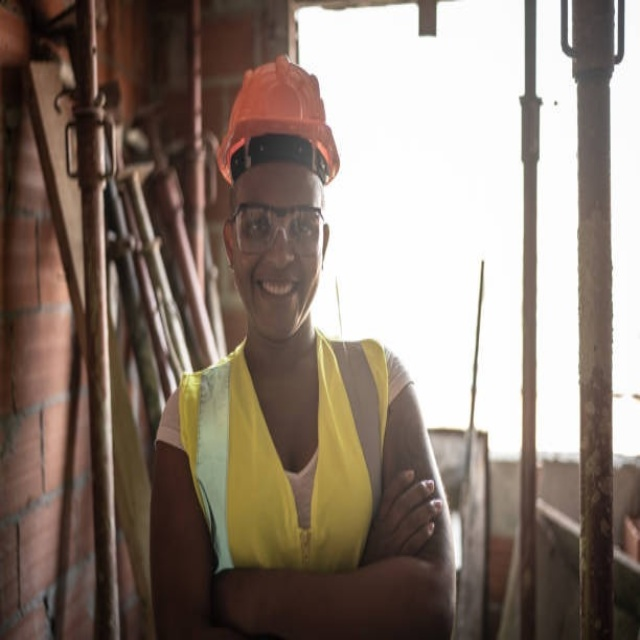Gafas: (228, 198, 325, 257)
Sin_guantes: (370, 469, 442, 562)
Sin_mascara: (252, 265, 306, 323)
